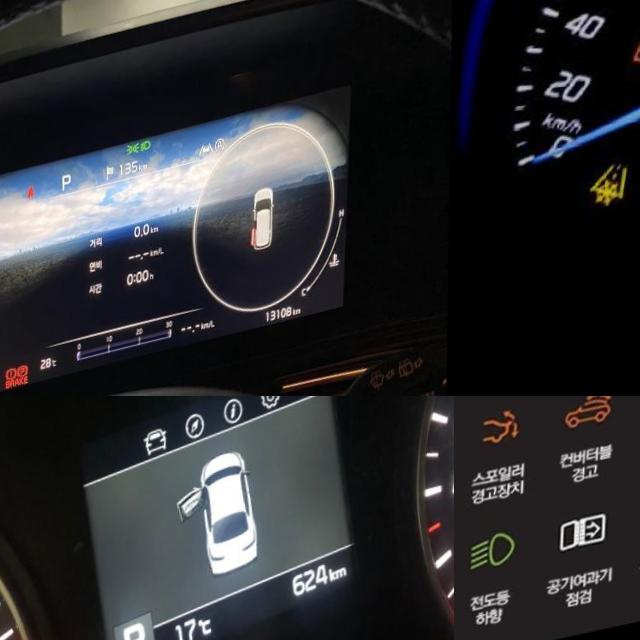Low beam: (468, 534, 516, 580), (140, 155, 152, 170)
SideLamp: (126, 157, 140, 172)
